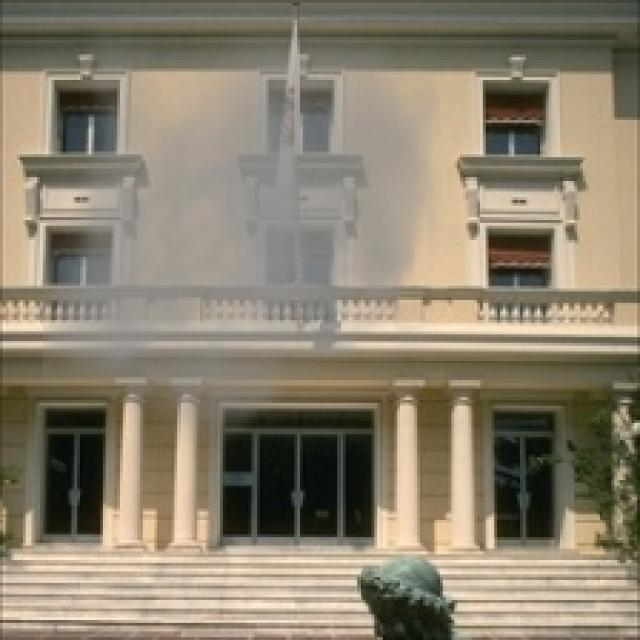Smoke: (43, 32, 443, 457)
